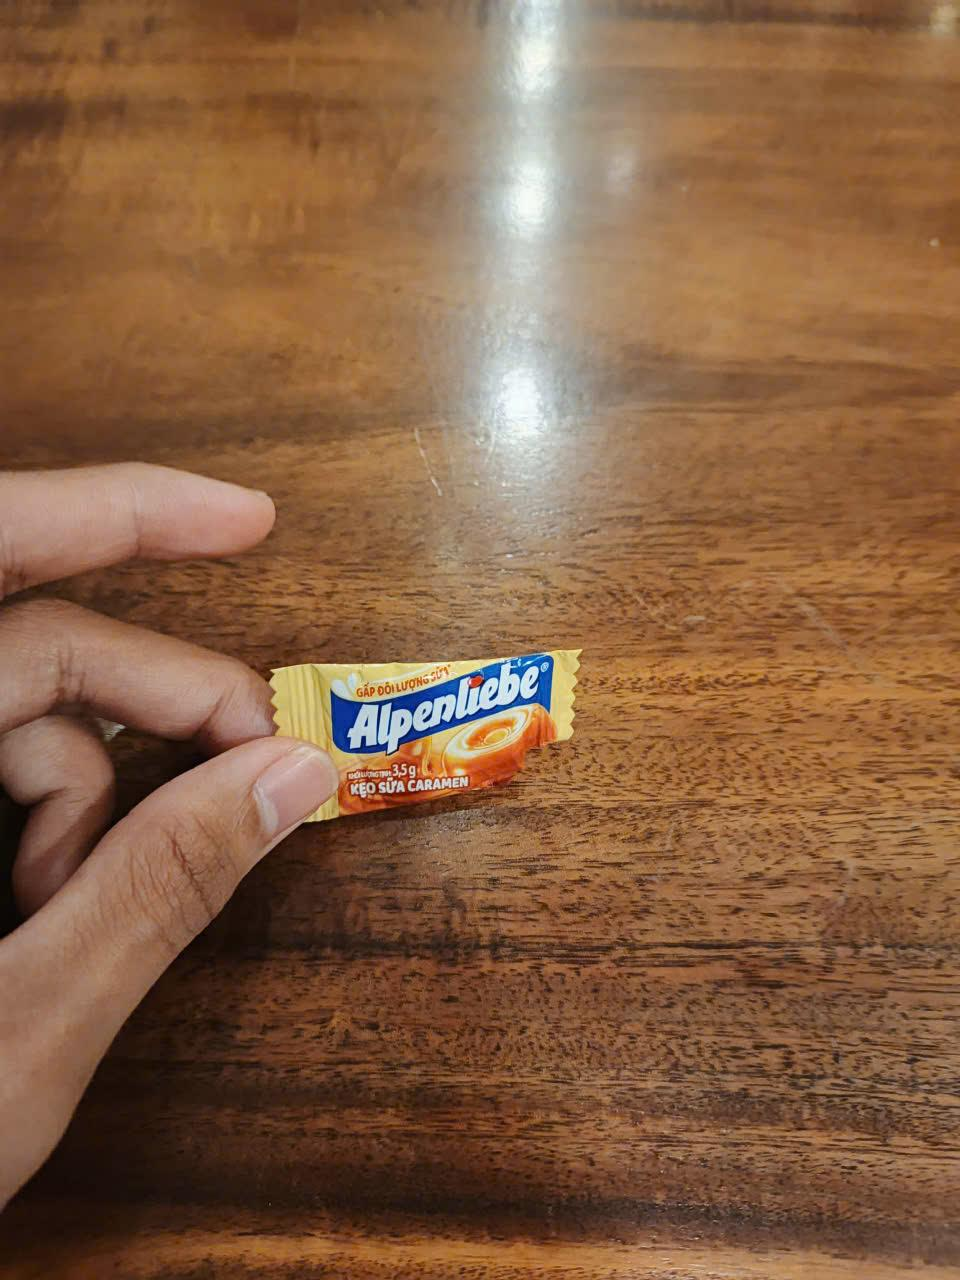Con lai: (270, 645, 580, 818)
